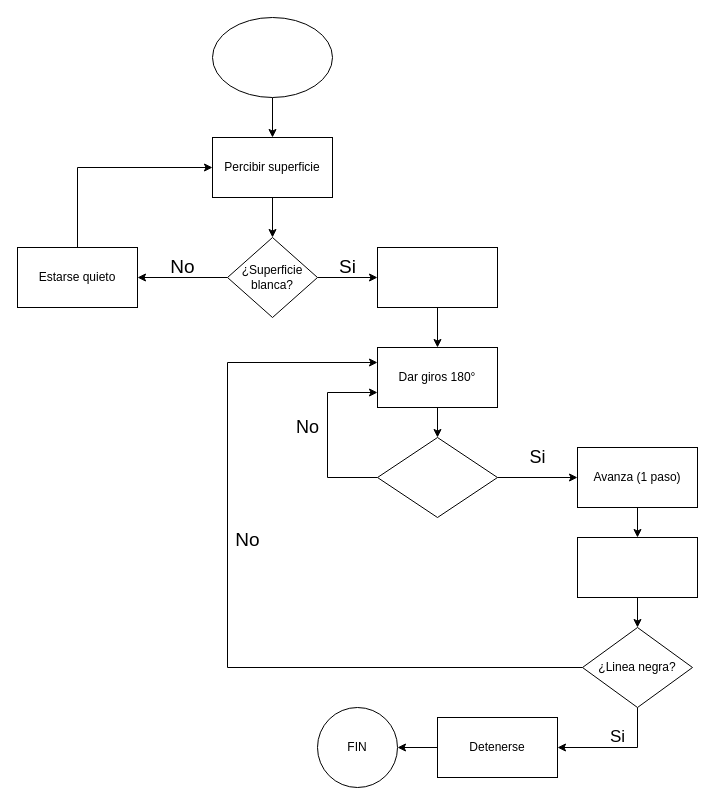
Image size: 715x805. Some labels were removed from this diagram. The shapes that lost their labels are listed below. From the top down, each one's centre as x and y in pixels, then its label:
pixel 272 57: Robot minisumo INICIO
pixel 437 277: Avanza (2 pasos)
pixel 437 477: ¿Oponente?
pixel 637 567: Empuja oponente
